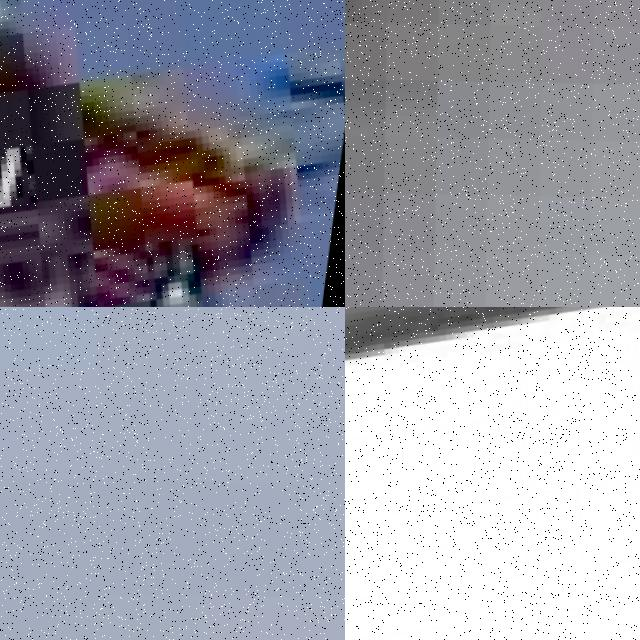drone: (0, 0, 345, 307), (345, 307, 640, 640)
